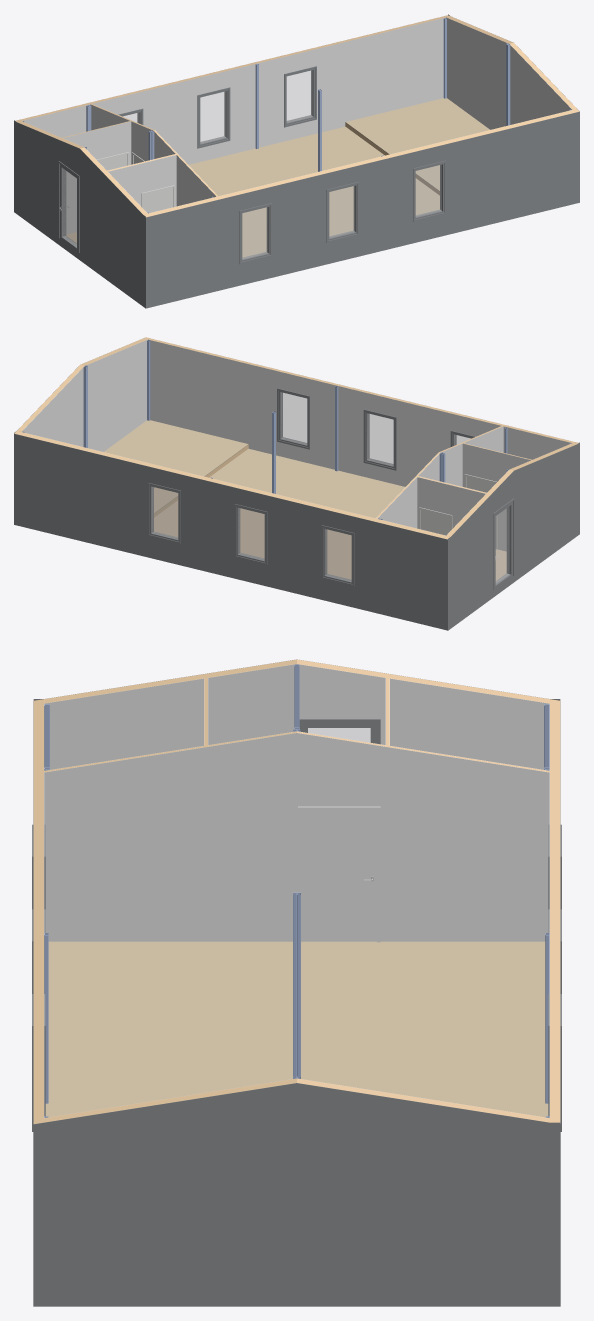
File: pukienea@gmail.fbx
The picture shows the model from 3 angles, top to bottom: view 1: azimuth 30°, elevation 25°; view 2: azimuth 150°, elevation 25°; view 3: azimuth 270°, elevation 25°; orthographic projection. The views are drawn at different scales.
Parts seen in each view (by area): view 1: IfcWall/Part:2319977, IfcWall/Part:2397154, IfcWall/Part:2650940, IfcSlab/Part:2319985, IfcWall/Part:2397151, IfcSlab/Part:2649801, IfcWall/Part:2650922, IfcWall/Part:2650919, IfcWindow/Langai (Akrusta):1000x1600x160:2643805, IfcWindow/Langai (Akrusta):1000x1600x160:2643751, IfcWindow/Langai (Akrusta):1000x1600x160:2643807, IfcWindow/Langai (Akrusta):1000x1600x160:2643720 (+11 smaller); view 2: IfcWall/Part:2397155, IfcWall/Part:2319976, IfcWall/Part:2650940, IfcSlab/Part:2319985, IfcWall/Part:2397151, IfcSlab/Part:2649801, IfcWall/Part:2650918, IfcWall/Part:2650921, IfcWindow/Langai (Akrusta):1000x1600x160:2643807, IfcWindow/Langai (Akrusta):1000x1600x160:2631731, IfcWindow/Langai (Akrusta):1000x1600x160:2643751, IfcWindow/Langai (Akrusta):1000x1600x160:2643806 (+11 smaller); view 3: IfcWall/Part:2397152, IfcWall/Part:2616562, IfcSlab/Part:2319985, IfcWall/Part:2650939, IfcDoor/Durys vidinės:1100x2100 x 120 (dešininės):2510249, IfcWall/Part:2397156, IfcWall/Part:2319978, IfcWall/Part:2397153, IfcWall/Part:2650941, IfcDoor/Durys išorinės:1100x2400x160 (dešininės):2618205, IfcWall/Part:2616564.
Part boxes in pixels (x1,y1,x2,y2): IfcWall/Part:2319977: (145,111,579,308); IfcWall/Part:2397154: (22,17,445,164); IfcWall/Part:2650940: (14,120,145,308); IfcSlab/Part:2319985: (66,126,439,257); IfcWall/Part:2397151: (446,17,571,129); IfcSlab/Part:2649801: (345,98,489,190); IfcWall/Part:2650922: (62,121,131,234); IfcWall/Part:2650919: (108,155,176,206); IfcWindow/Langai (Akrusta):1000x1600x160:2643805: (239,203,272,264); IfcWindow/Langai (Akrusta):1000x1600x160:2643751: (197,87,230,148); IfcWindow/Langai (Akrusta):1000x1600x160:2643807: (326,182,359,242); IfcWindow/Langai (Akrusta):1000x1600x160:2643720: (284,66,316,127); IfcWall/Part:2397155: (14,433,448,630); IfcWall/Part:2319976: (148,339,572,486); IfcWall/Part:2650940: (448,442,579,630); IfcSlab/Part:2319985: (154,448,506,580); IfcWall/Part:2397151: (22,339,147,451); IfcSlab/Part:2649801: (104,420,248,513); IfcWall/Part:2650918: (462,443,530,551); IfcWall/Part:2650921: (417,477,485,528); IfcWindow/Langai (Akrusta):1000x1600x160:2643807: (363,409,396,470); IfcWindow/Langai (Akrusta):1000x1600x160:2631731: (321,525,354,586); IfcWindow/Langai (Akrusta):1000x1600x160:2643751: (234,504,267,564); IfcWindow/Langai (Akrusta):1000x1600x160:2643806: (277,388,309,449); IfcWall/Part:2397152: (33,1083,560,1306); IfcWall/Part:2616562: (44,733,549,941); IfcSlab/Part:2319985: (45,941,548,1117); IfcWall/Part:2650939: (44,664,549,769); IfcDoor/Durys vidinės:1100x2100 x 120 (dešininės):2510249: (298,806,380,942); IfcWall/Part:2397156: (550,699,560,1122); IfcWall/Part:2319978: (33,699,43,1119); IfcWall/Part:2397153: (33,1078,549,1123); IfcWall/Part:2650941: (44,659,549,703); IfcDoor/Durys išorinės:1100x2400x160 (dešininės):2618205: (299,719,380,744); IfcWall/Part:2616564: (44,731,549,772).
Size of the model in its own units: 1452 by 356 by 764.
